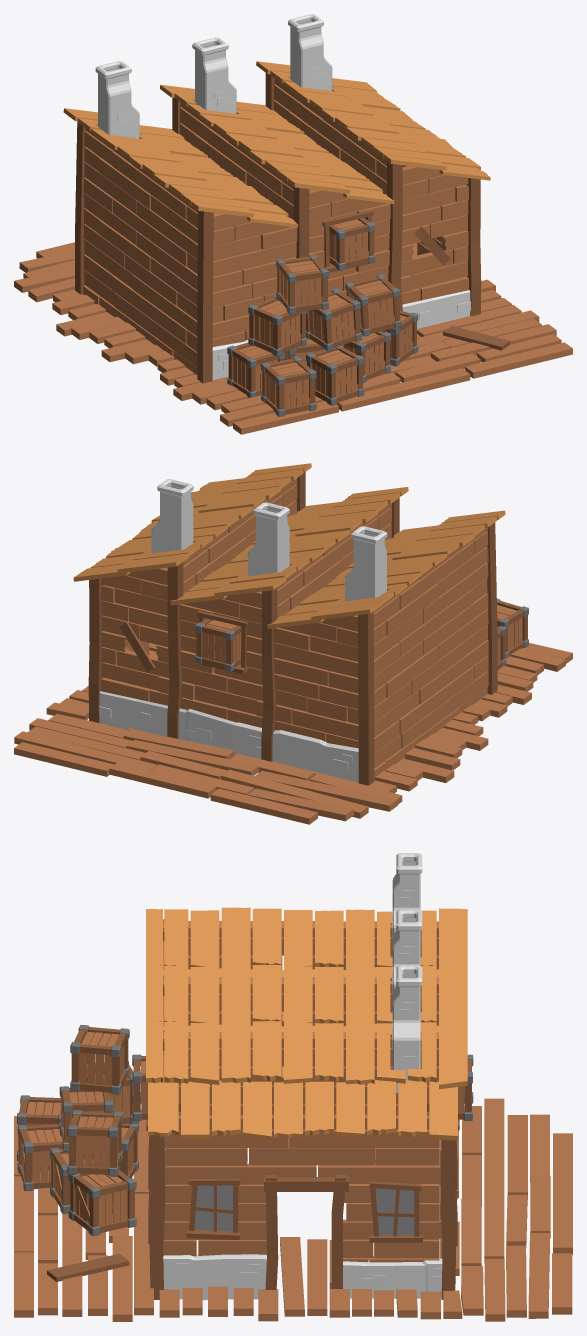
File: Fabbrica.fbx
3 renders of one model, top to bottom at view 1: azimuth 30°, elevation 25°; view 2: azimuth 150°, elevation 25°; view 3: azimuth 270°, elevation 25°, orthographic. The views are drawn at different scales.
Visible parts, largest first — view 1: Fabbrica; view 2: Fabbrica; view 3: Fabbrica.
Boxes of the visible parts, bbox=[...] form: Fabbrica: bbox=[14, 14, 572, 434]; Fabbrica: bbox=[14, 463, 572, 824]; Fabbrica: bbox=[14, 853, 572, 1321].
Bounding box in the file's own units: 412 × 261 × 452.
